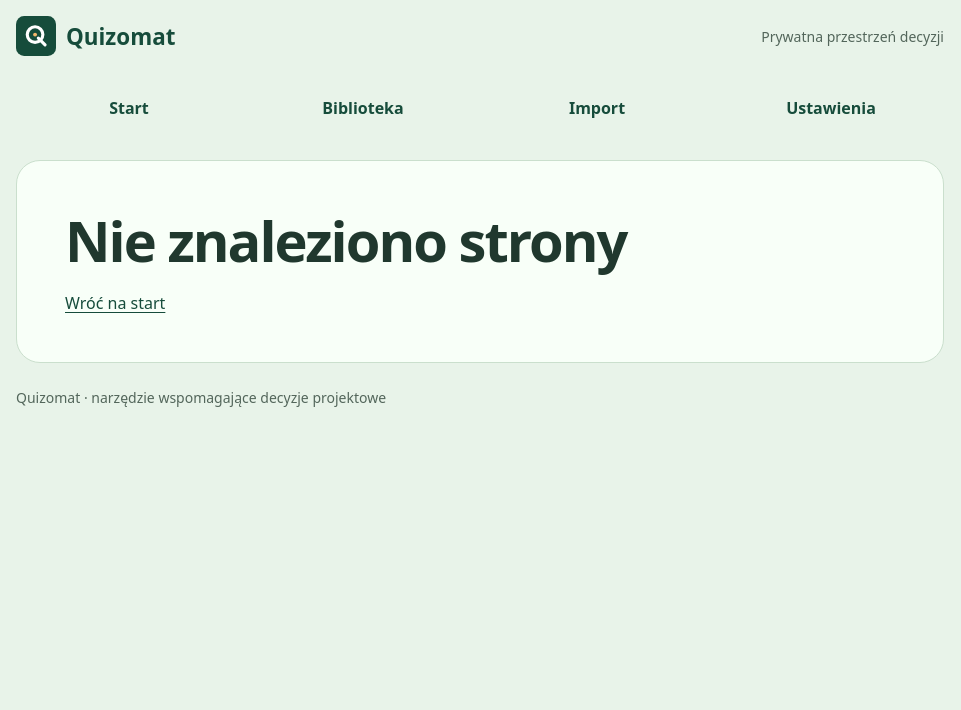
Shell Quizomatu › pozwala wrócić z nieistniejącego adresu na start
Check: the heading "Nie znaleziono strony" is shown, box [65,202,626,278]
Click the link "Wróć na start" at (115, 303), box [65,292,165,314]
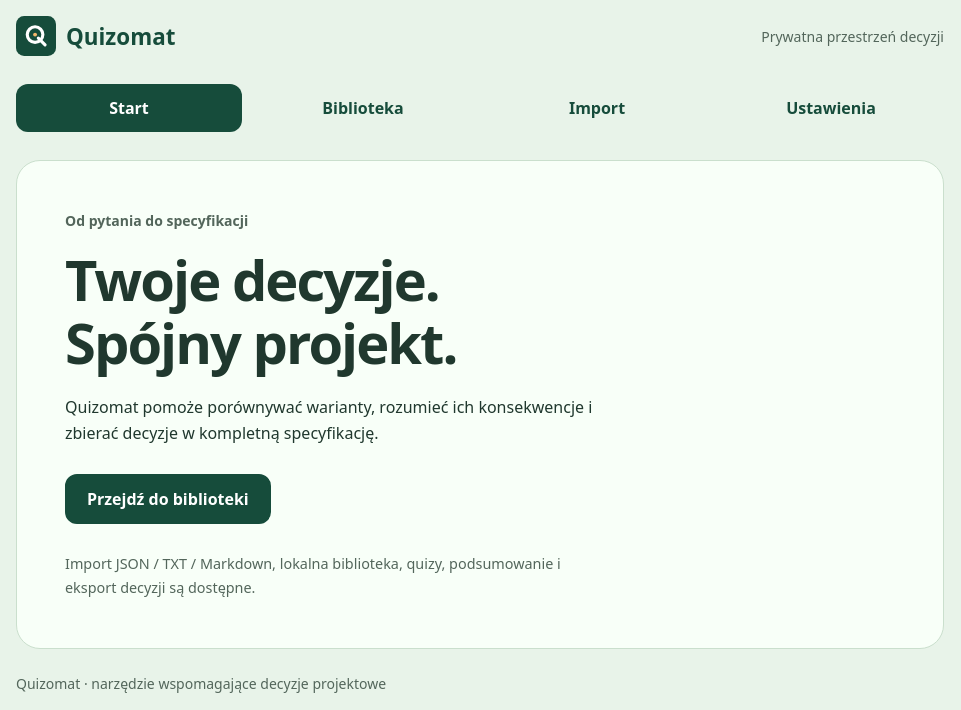
Check: the heading "Twoje decyzje. Spójny projekt." is shown, box [65,241,456,380]
